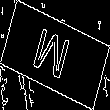M_S: (33, 24, 77, 86)
